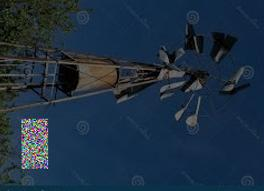faulty: (143, 27, 240, 112)
